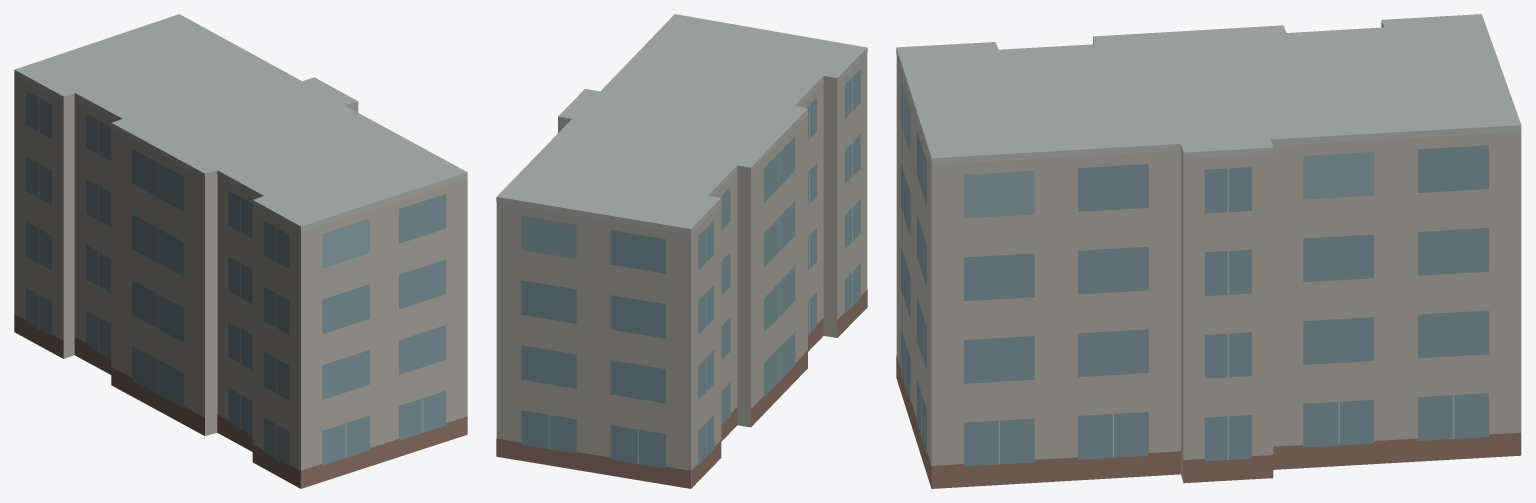
The model's file is survey-upis-32530986.glb.
3 renders of one model, left to right at view 1: azimuth 30°, elevation 25°; view 2: azimuth 150°, elevation 25°; view 3: azimuth 270°, elevation 25°, orthographic. The views are drawn at different scales.
Parts seen in each view (by area): view 1: survey-upis-32530986.tmp; view 2: survey-upis-32530986.tmp; view 3: survey-upis-32530986.tmp.
Part boxes in pixels (bbox=[...]): survey-upis-32530986.tmp: bbox=[14, 14, 467, 488]; survey-upis-32530986.tmp: bbox=[496, 14, 867, 488]; survey-upis-32530986.tmp: bbox=[896, 14, 1521, 488].
Bounding box in the file's own units: 11.07 × 11.8 × 20.23.
